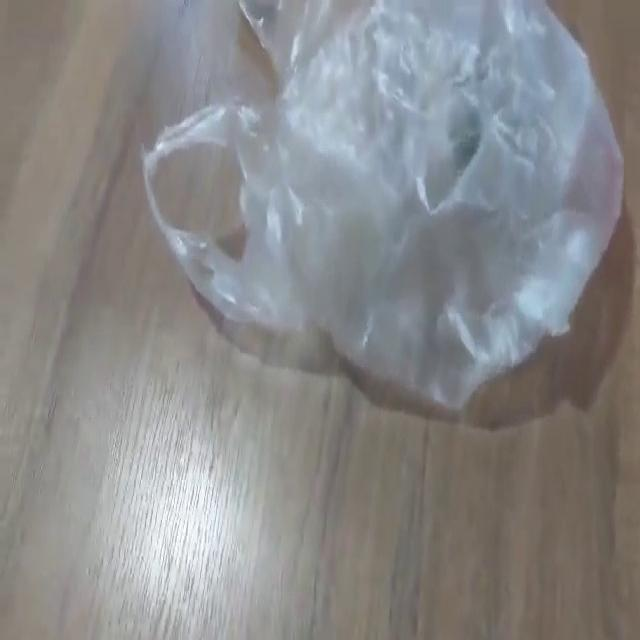Anorganik: (138, 1, 629, 422)
